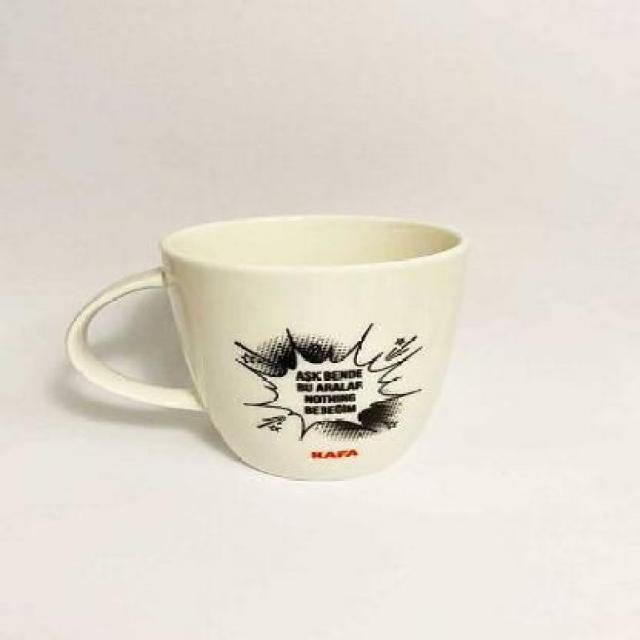taza: (66, 213, 472, 484)
